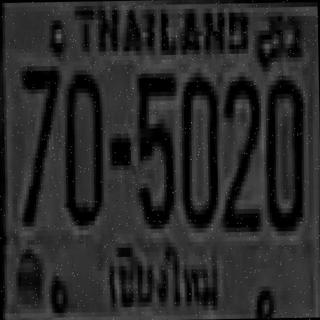N00: (62, 65, 102, 221), (262, 75, 302, 227), (178, 72, 218, 224)
N02: (220, 71, 260, 227)
N05: (134, 68, 176, 224)
N07: (20, 61, 60, 222)
P11: (103, 235, 225, 320)
